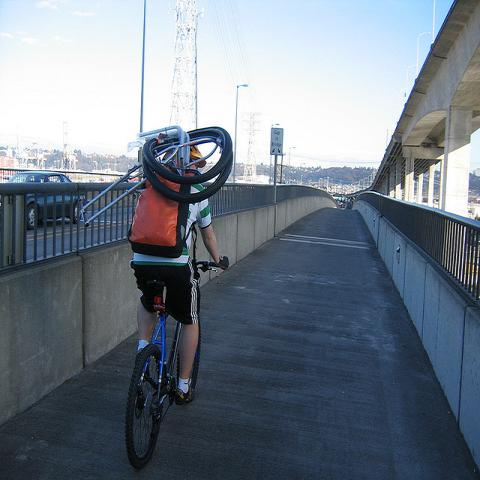car: (8, 172, 90, 228)
